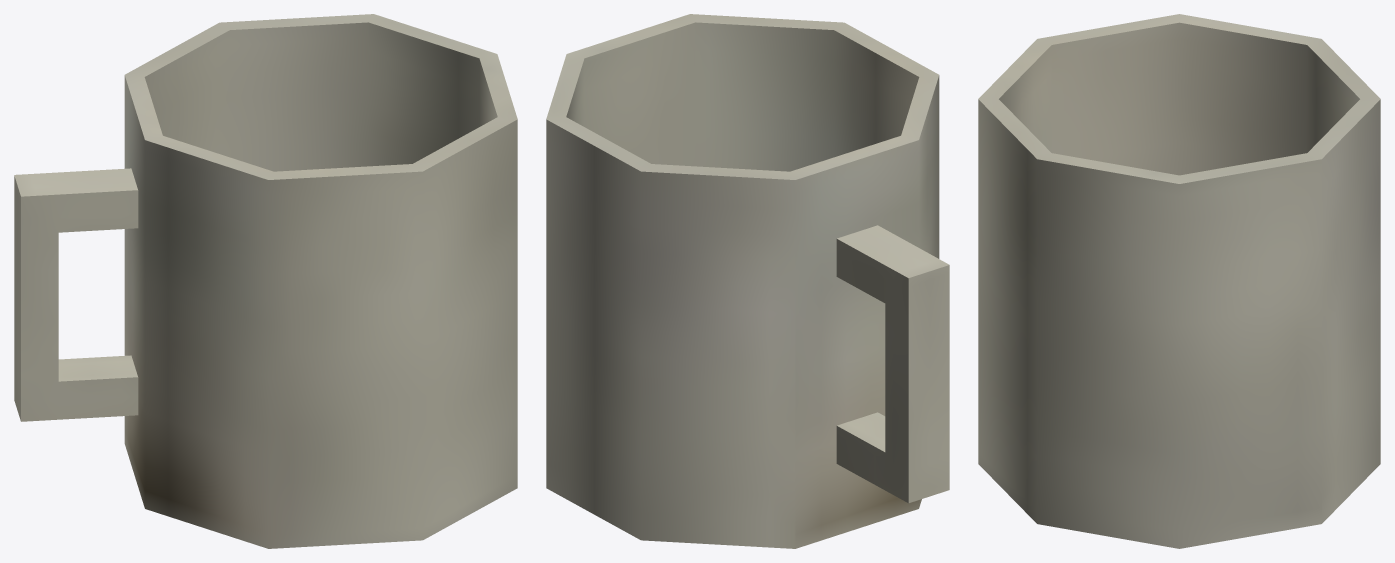
The model's file is Taza.fbx.
3 renders of one model, left to right at view 1: azimuth 30°, elevation 25°; view 2: azimuth 150°, elevation 25°; view 3: azimuth 270°, elevation 25°, orthographic.
Visible parts, largest first — view 1: Taza; view 2: Taza; view 3: Taza.
Boxes of the visible parts, x1,y1,x2,y2 form: Taza: (14, 14, 517, 548); Taza: (546, 14, 949, 548); Taza: (978, 14, 1380, 548).
Size of the model in its own units: 21.96 by 18 by 18.
